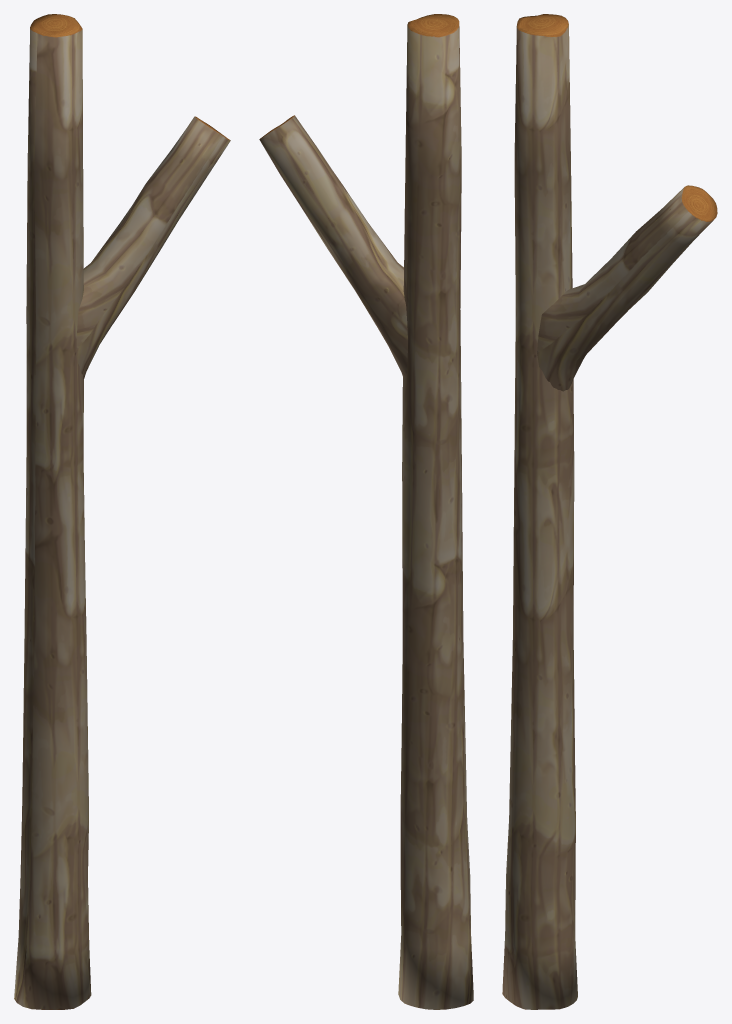
File: Stick_1.fbx
The picture shows the model from 3 angles, left to right: view 1: azimuth 30°, elevation 25°; view 2: azimuth 150°, elevation 25°; view 3: azimuth 330°, elevation 25°; orthographic projection.
Visible parts, largest first — view 1: Cylinder.002, Cylinder.001; view 2: Cylinder.002, Cylinder.001; view 3: Cylinder.002, Cylinder.001.
Part boxes in pixels (x1=…): Cylinder.002: x1=14, y1=14, x2=91, y2=1009; Cylinder.001: x1=76, y1=116, x2=230, y2=378; Cylinder.002: x1=398, y1=14, x2=473, y2=1009; Cylinder.001: x1=259, y1=115, x2=407, y2=379; Cylinder.002: x1=502, y1=14, x2=577, y2=1009; Cylinder.001: x1=537, y1=185, x2=717, y2=391.
Bounding box in the file's own units: 168 × 748 × 49.57.
